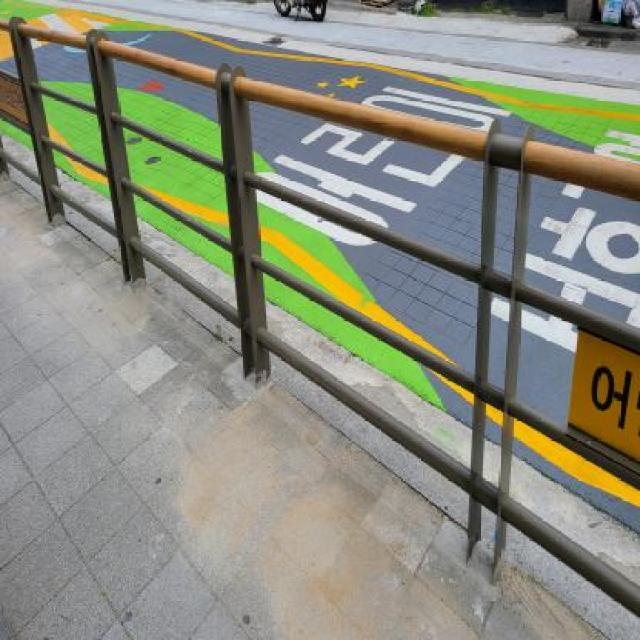fence: (86, 11, 322, 427)
